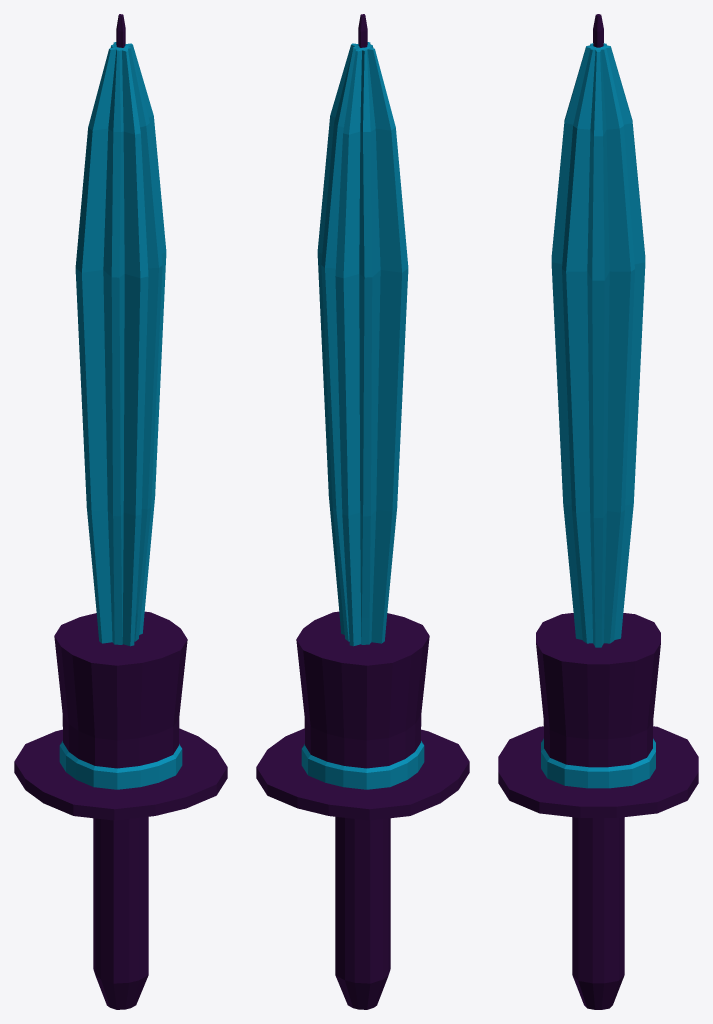
The model's file is Sword.fbx.
The picture shows the model from 3 angles, left to right: view 1: azimuth 30°, elevation 25°; view 2: azimuth 150°, elevation 25°; view 3: azimuth 270°, elevation 25°; orthographic projection.
Parts seen in each view (by area): view 1: Sword; view 2: Sword; view 3: Sword.
Boxes of the visible parts, x1,y1,x2,y2 form: Sword: (14,14,227,1009); Sword: (256,14,469,1009); Sword: (498,14,698,1009).
Bounding box in the file's own units: 157 × 857 × 157.
1 material, 1 textured.
